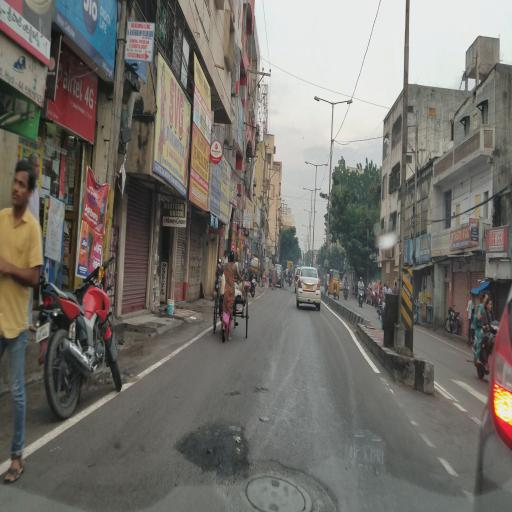street_light_0: (308, 87, 331, 110), (332, 90, 354, 114), (314, 156, 330, 174), (301, 156, 317, 174), (310, 184, 324, 198), (300, 185, 314, 199)
